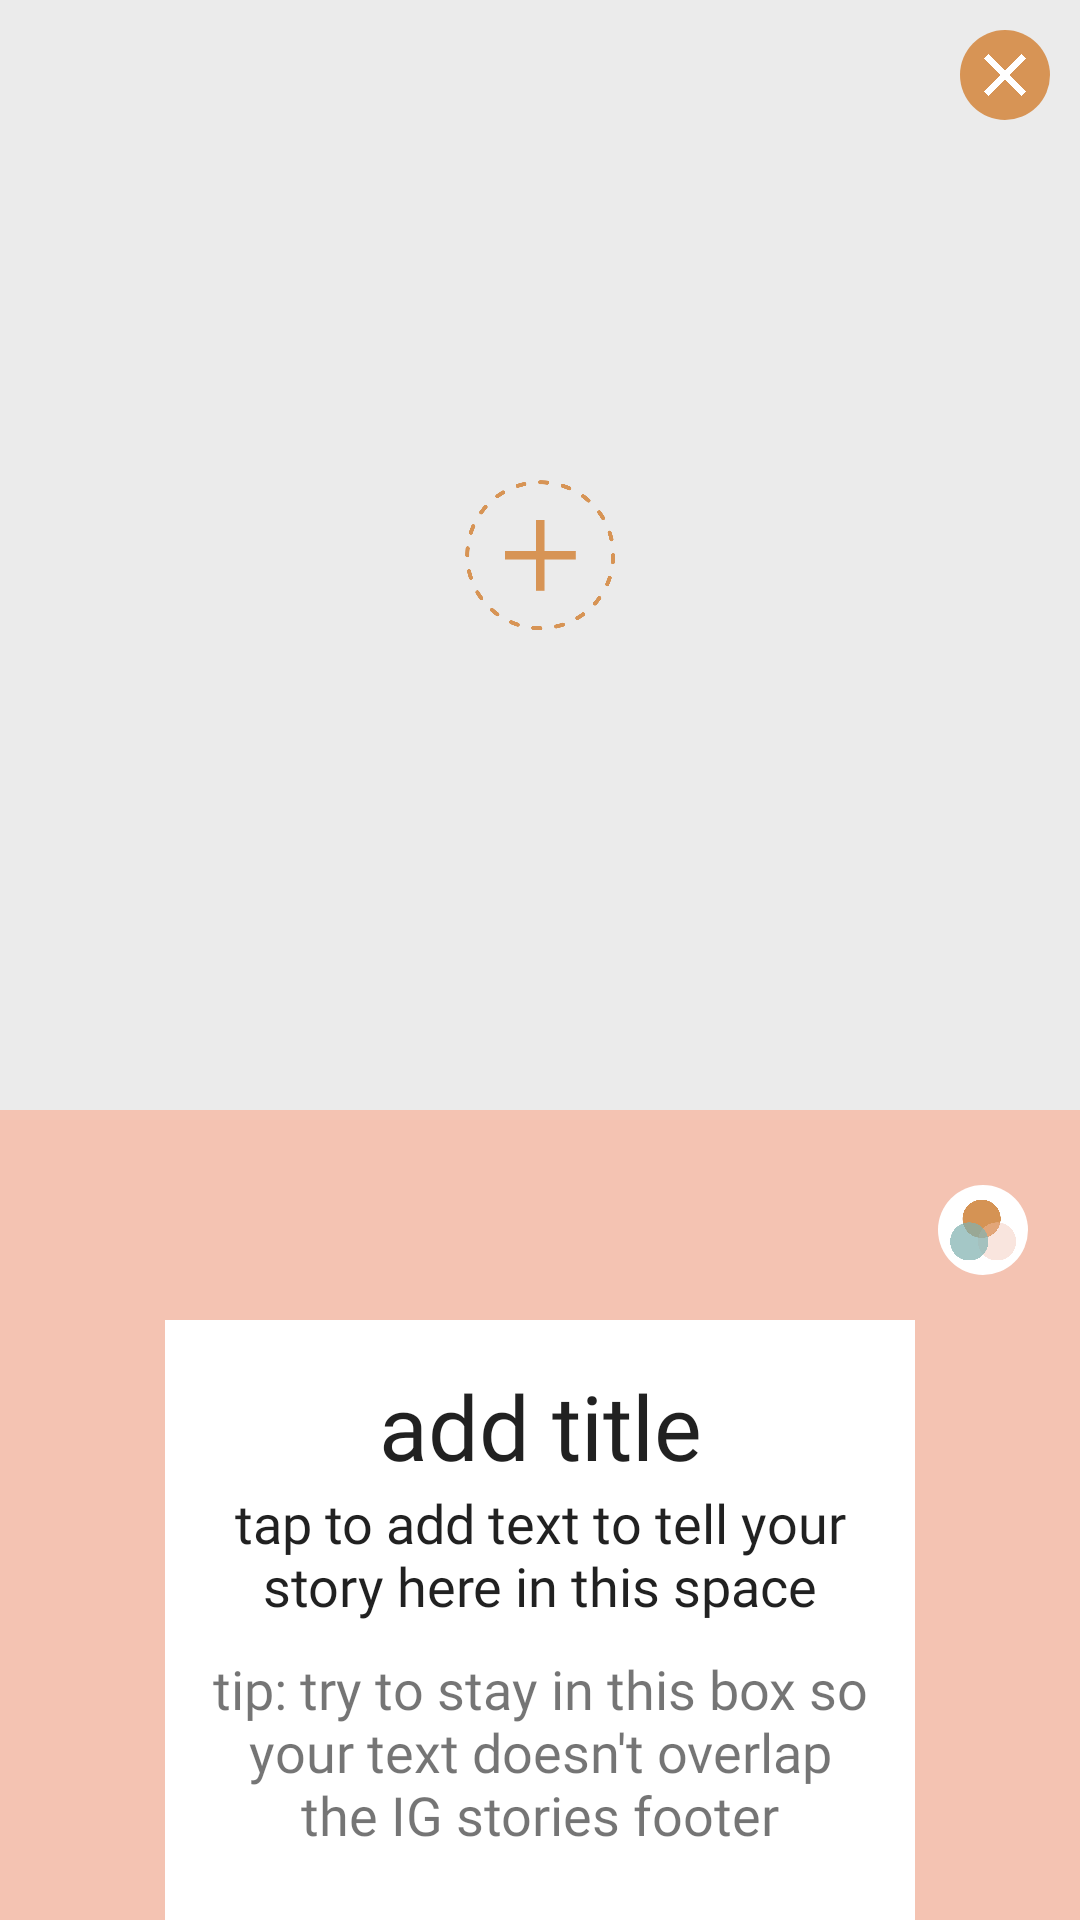

Point at icon controls on the screen. Image size 1080 x 1920, points as point (x, y).
add story: point (540, 555)
three circles: point (983, 1230)
